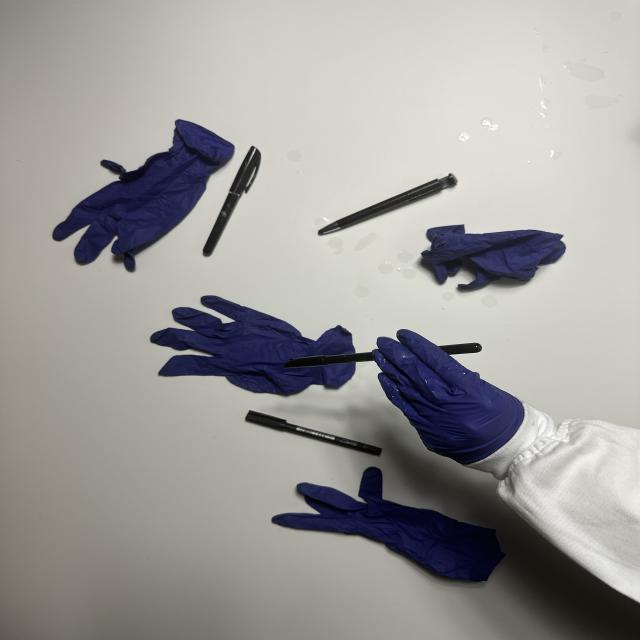gloves_contaminated: (373, 330, 524, 464)
